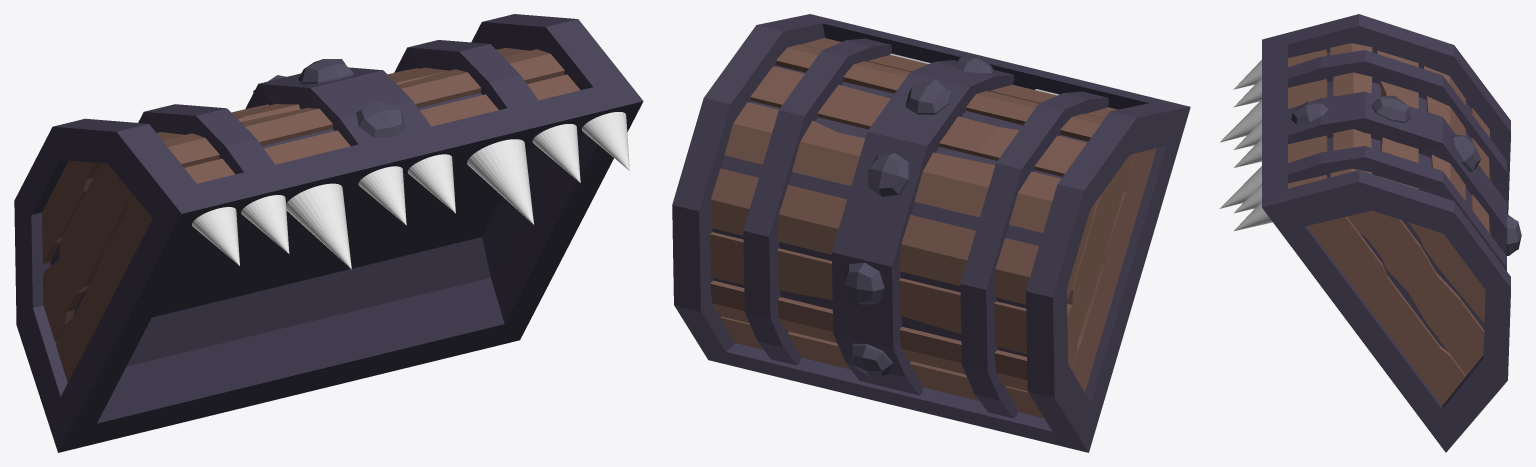
File: ChestTop.fbx
The picture shows the model from 3 angles, left to right: view 1: azimuth 30°, elevation 25°; view 2: azimuth 150°, elevation 25°; view 3: azimuth 270°, elevation 25°; orthographic projection. The views are drawn at different scales.
Visible parts, largest first — view 1: Chest_Open.001, Cone.002, Cone.003, Cone.001, Cone.004; view 2: Chest_Open.001; view 3: Chest_Open.001, Cone.002, Cone.004, Cone.003, Cone.001.
Part boxes in pixels (x1,y1,x2,y2): Chest_Open.001: (14,14,643,452); Cone.002: (286,139,533,269); Cone.003: (358,154,455,225); Cone.001: (192,195,289,265); Cone.004: (532,112,629,182); Chest_Open.001: (672,14,1190,452); Chest_Open.001: (1262,14,1521,452); Cone.002: (1219,100,1261,208); Cone.004: (1234,183,1272,230); Cone.003: (1234,120,1261,167); Cone.001: (1233,60,1261,107).
Size of the model in its own units: 94.96 by 71.6 by 72.31.
